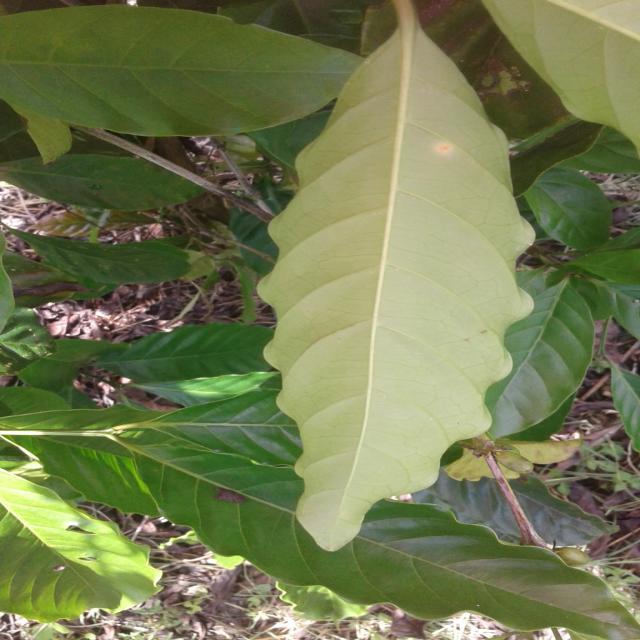Enfermedad-Roya: (258, 26, 538, 554)
